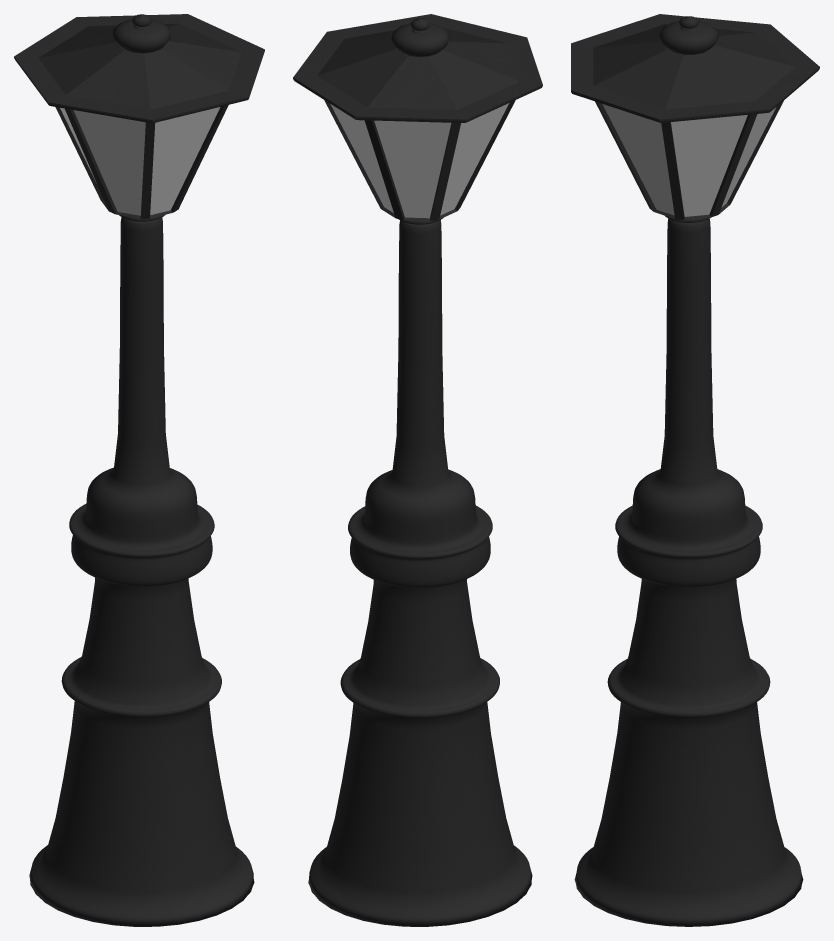
File: lantern.obj
3 renders of one model, left to right at view 1: azimuth 30°, elevation 25°; view 2: azimuth 150°, elevation 25°; view 3: azimuth 270°, elevation 25°, orthographic.
Visible parts, largest first — view 1: Cylinder_002; view 2: Cylinder_002; view 3: Cylinder_002.
Boxes of the visible parts, x1,y1,x2,y2 form: Cylinder_002: (14, 14, 264, 926); Cylinder_002: (293, 14, 542, 926); Cylinder_002: (571, 14, 819, 926).
Size of the model in its own units: 4.26 by 16.24 by 4.24.
Materials: 2 (1 with a texture image).
